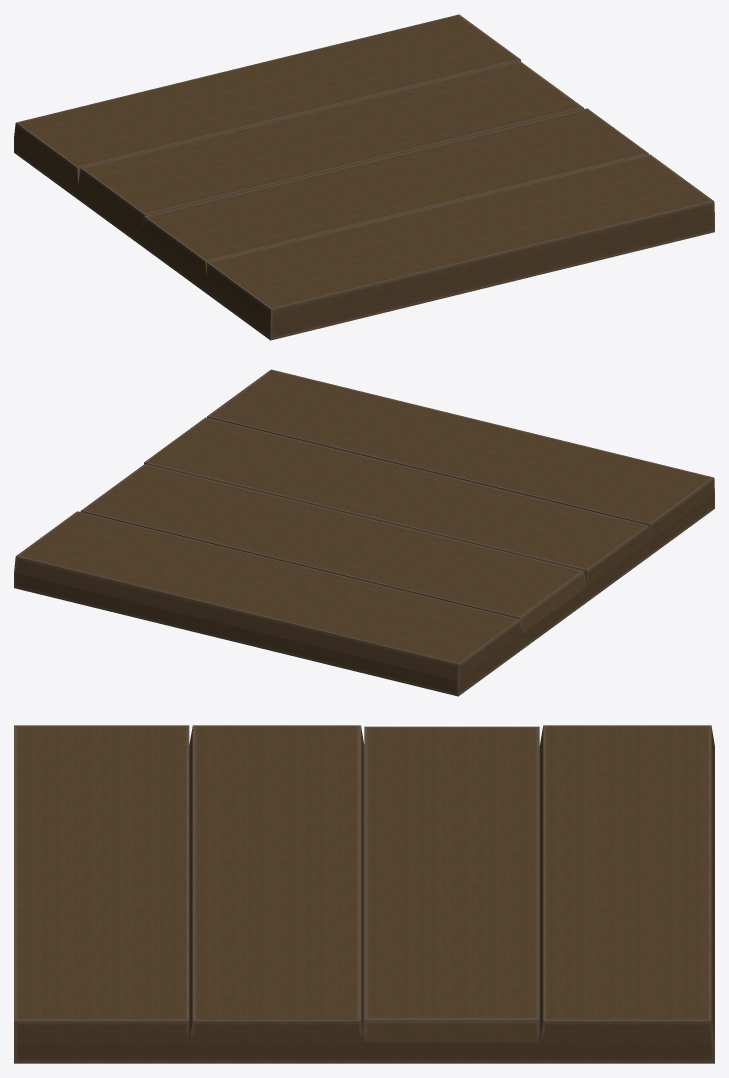
The model's file is GroundFloorPiece.fbx.
3 renders of one model, top to bottom at view 1: azimuth 30°, elevation 25°; view 2: azimuth 150°, elevation 25°; view 3: azimuth 270°, elevation 25°, orthographic. The views are drawn at different scales.
Parts seen in each view (by area): view 1: GroundFloorPiece; view 2: GroundFloorPiece; view 3: GroundFloorPiece.
Boxes of the visible parts, x1,y1,x2,y2 form: GroundFloorPiece: (14,14,714,340); GroundFloorPiece: (14,369,714,696); GroundFloorPiece: (14,725,714,1063).
Size of the model in its own units: 316 by 21.09 by 316.
